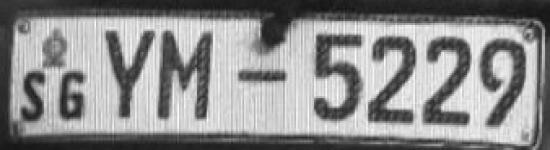-: (229, 58, 297, 98)
2: (421, 32, 478, 136), (364, 30, 419, 129)
5: (307, 26, 366, 127)
9: (479, 32, 531, 134)
G: (54, 64, 94, 127)
M: (159, 21, 216, 129)
S: (17, 65, 50, 129)
Y: (100, 23, 157, 126)
